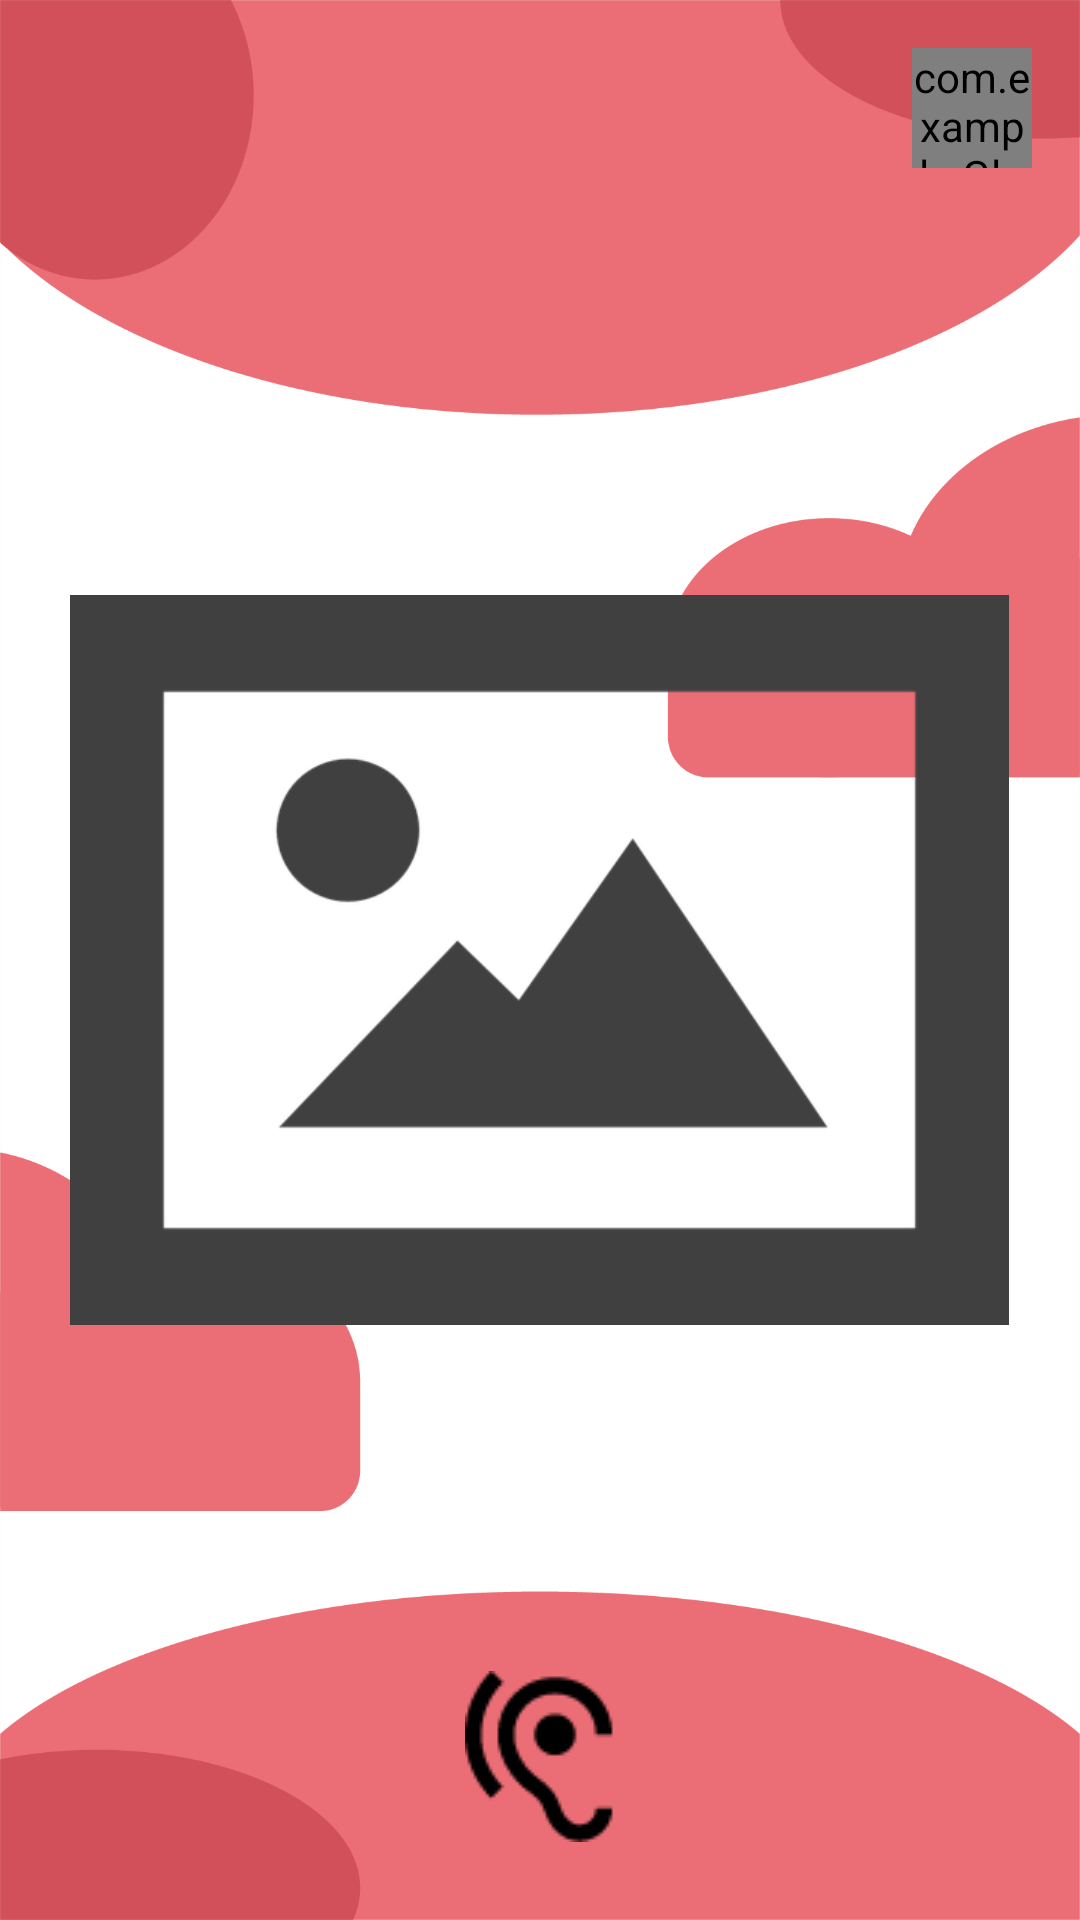

Locate icon controls on the screen. Image size 1080px×1920px, boxes as (x1, y1, x2, y2).
pictogram oortje: (465, 1671, 613, 1842)
